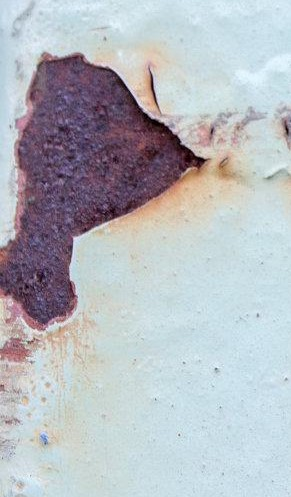Corrosion: (1, 51, 213, 333)
Crack: (147, 65, 162, 116)
